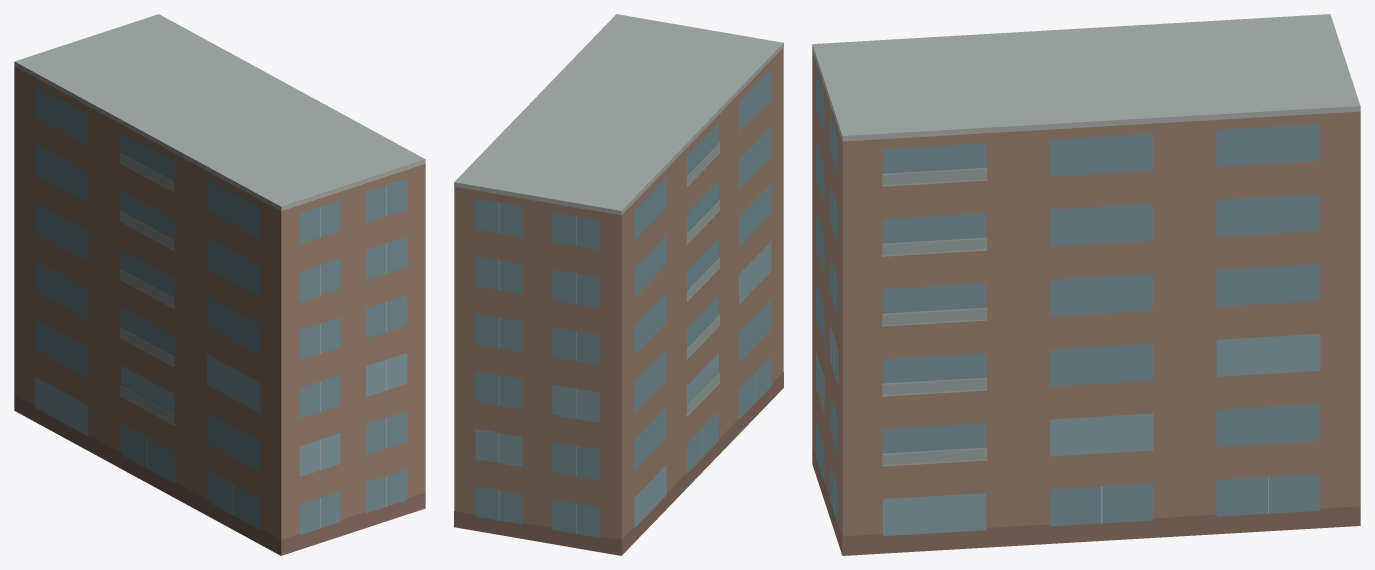
Rendered from survey-upis-32735139.glb.
The picture shows the model from 3 angles, left to right: view 1: azimuth 30°, elevation 25°; view 2: azimuth 150°, elevation 25°; view 3: azimuth 270°, elevation 25°; orthographic projection. The views are drawn at different scales.
Visible parts, largest first — view 1: survey-upis-32735139.tmp; view 2: survey-upis-32735139.tmp; view 3: survey-upis-32735139.tmp.
Boxes of the visible parts, box(x1,y1,x2,y2) form: survey-upis-32735139.tmp: box(14, 14, 425, 555); survey-upis-32735139.tmp: box(454, 14, 783, 555); survey-upis-32735139.tmp: box(812, 14, 1360, 555).
Size of the model in its own units: 11.61 by 18.6 by 22.02.
